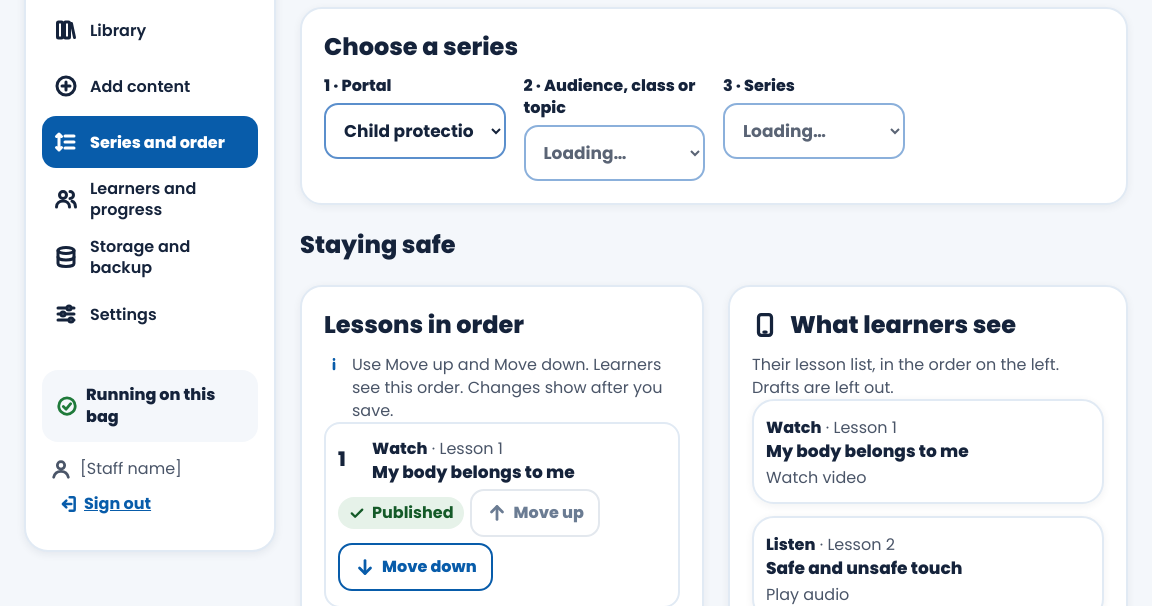
Test: series order › does not overwrite a series that changed meanwhile
Click the button with aria-label "Move down: My body belongs to me" at {"x": 415, "y": 567}, box [338,543,493,591]
(page scrolled)
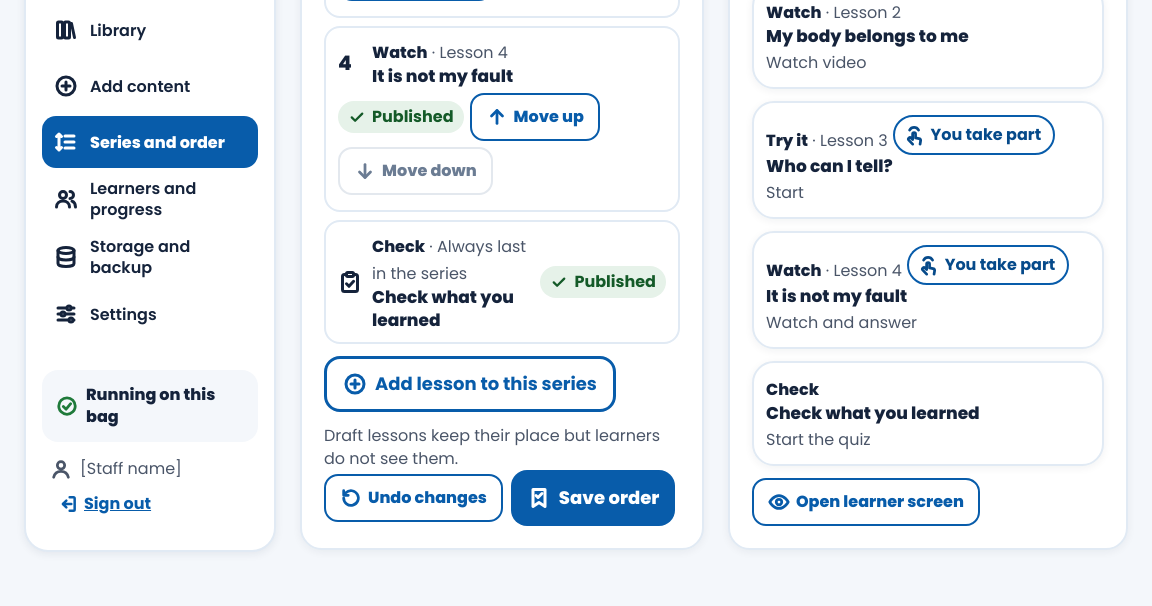
Click the button "Save order" at {"x": 593, "y": 498}, box [511,470,675,526]
(page scrolled)
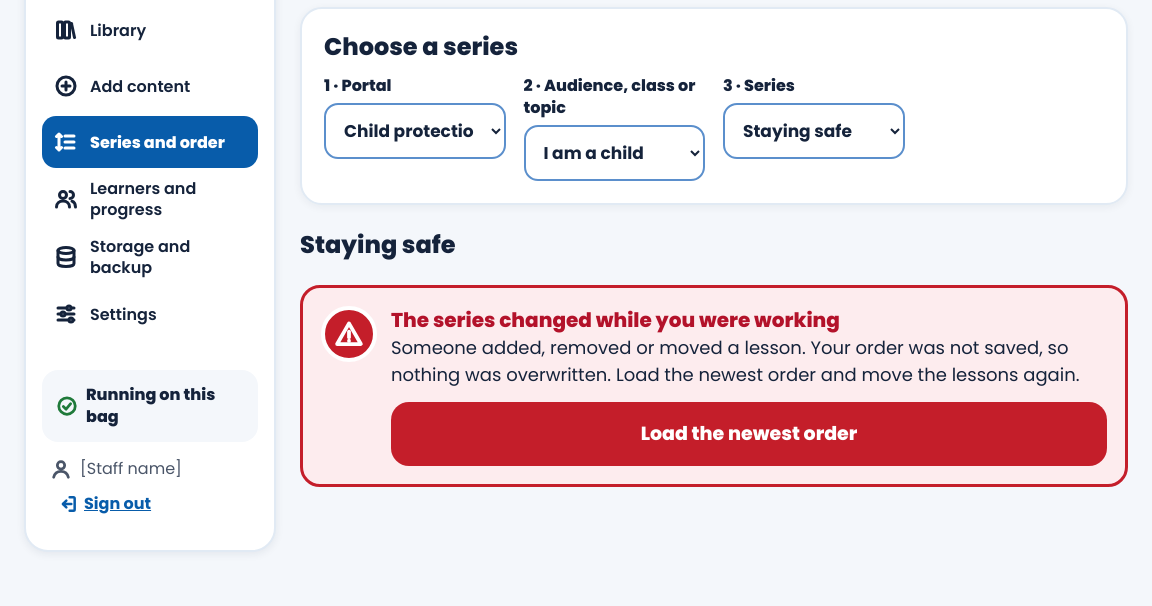
Expected: the text "The series changed while you were working" is shown, [391,306,840,334]
Click the button "Load the newest order" at {"x": 749, "y": 434}, box [391,402,1107,466]
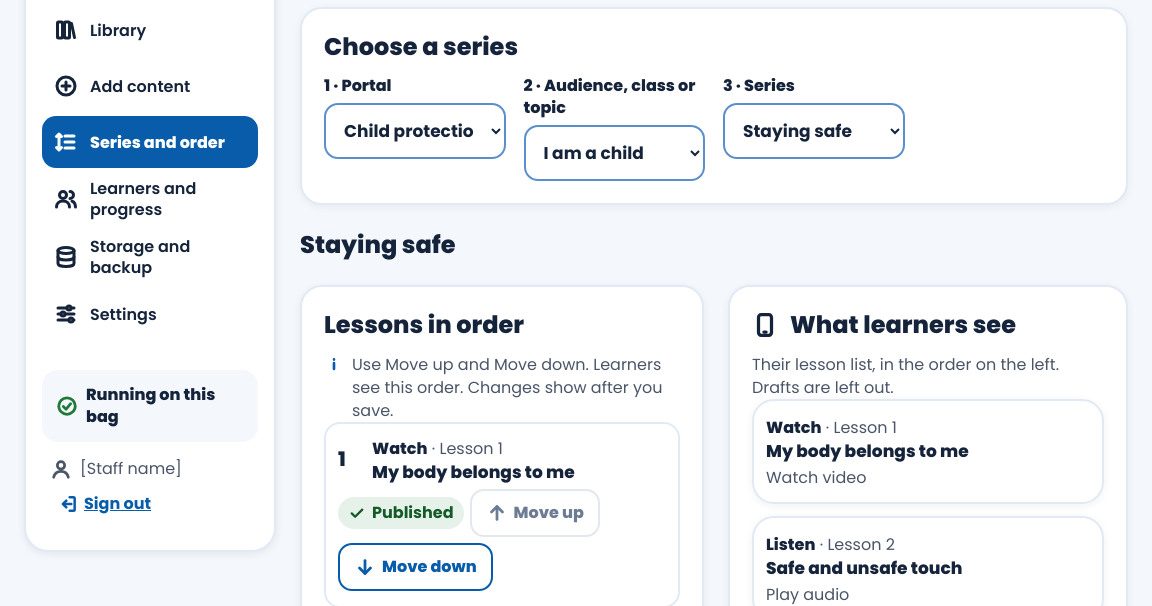
Expected: the text "Who can I tell?" is not shown
Expected: the button with aria-label "Move down: My body belongs to me" is shown, [338,543,493,591]
